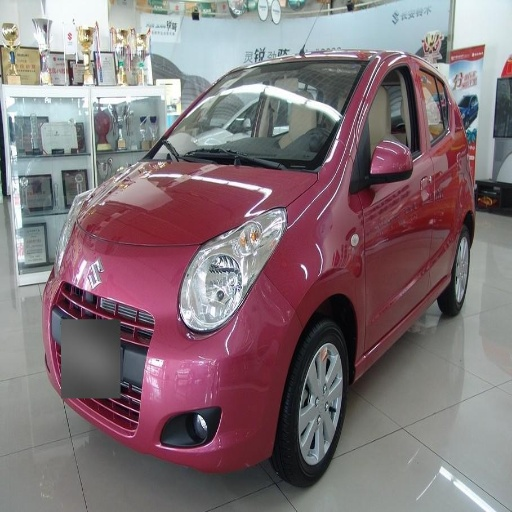back_left_door: (412, 62, 460, 286)
front_bumper: (88, 282, 302, 471), (106, 243, 199, 289)
front_glass: (148, 62, 367, 171)
front_left_door: (353, 60, 431, 352)
tailgate: (79, 232, 107, 315)
trunk: (57, 276, 140, 396)
